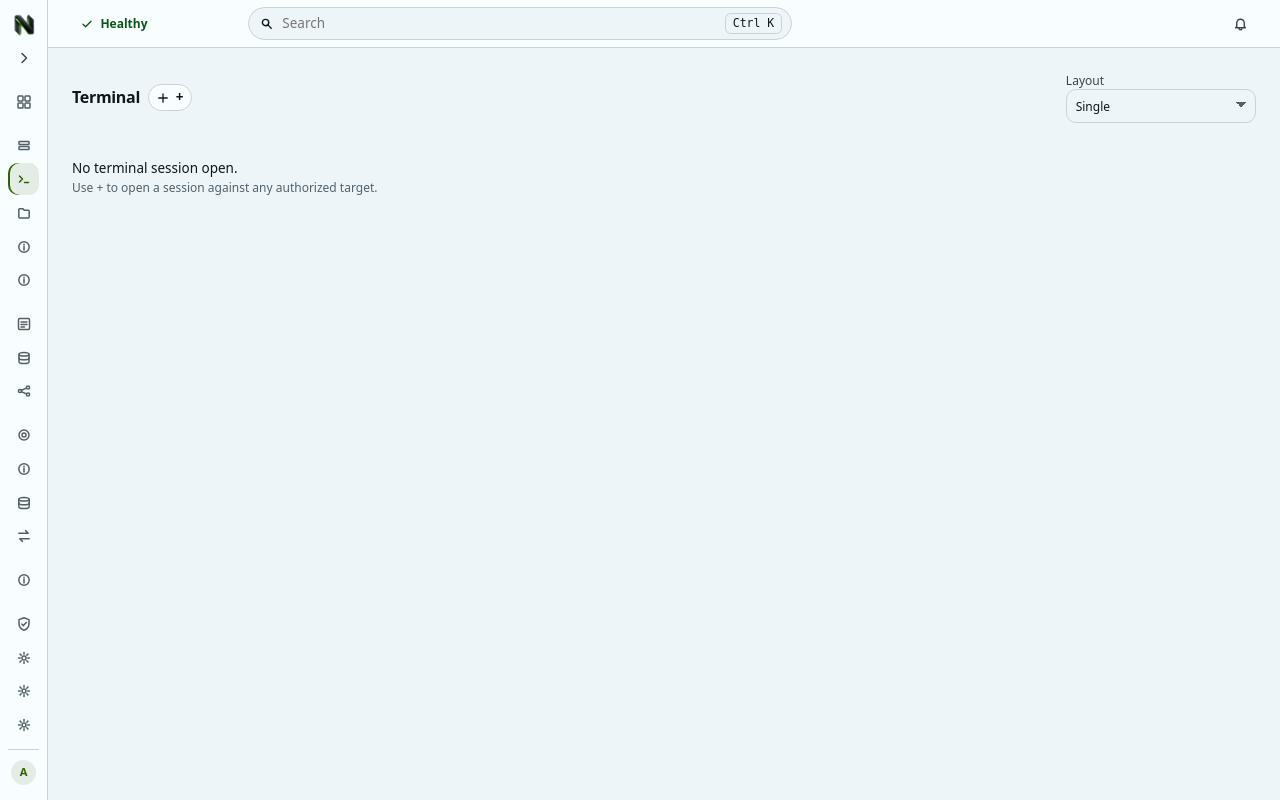
Test: Terminal workspace › keeps sessions alive when navigating away and restores disconnected after reload metadata
This screenshot has width=1280, height=800.
Expected: the heading "Terminal" is shown, x1=72 y1=88 x2=140 y2=107
Click the button named "new terminal".
click(170, 98)  # box x1=148 y1=84 x2=192 y2=111
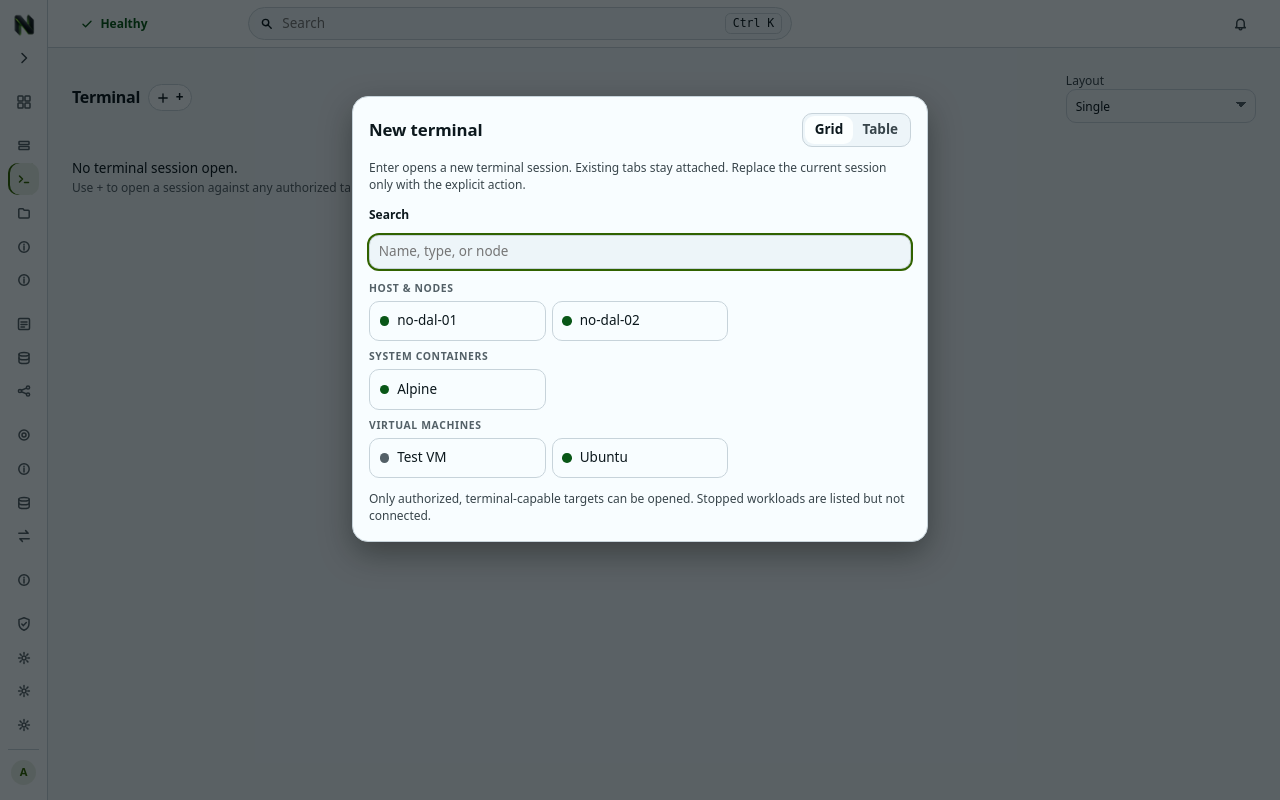
Expected: the dialog "New terminal" is shown, x1=352 y1=96 x2=928 y2=542
Expected: the button "Alpine" is shown
Click the button "Alpine".
click(457, 390)  # box x1=370 y1=370 x2=545 y2=409
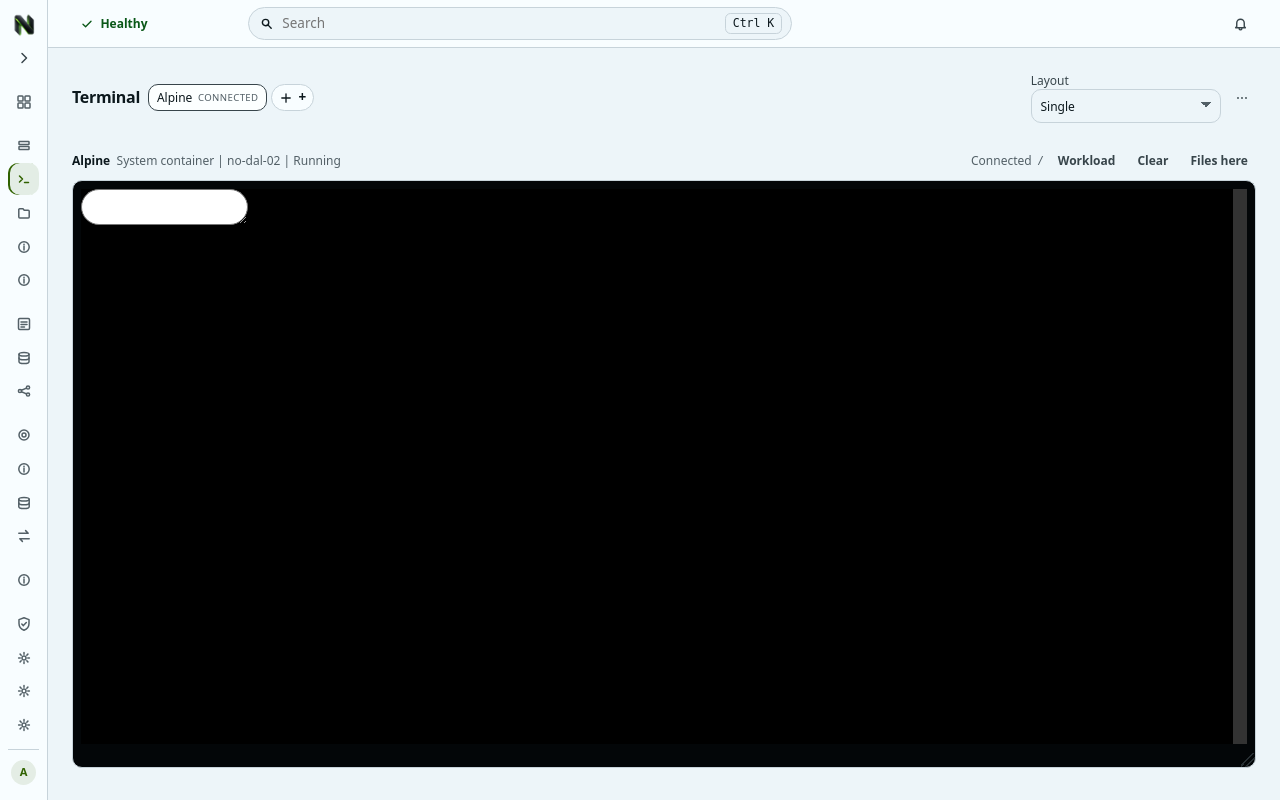
Expected: the text with class "is-active" next to "Workload" reads "Connected", x1=971 y1=152 x2=1032 y2=169
Click the link named "workloads".
click(24, 146)  # box x1=16 y1=138 x2=32 y2=154
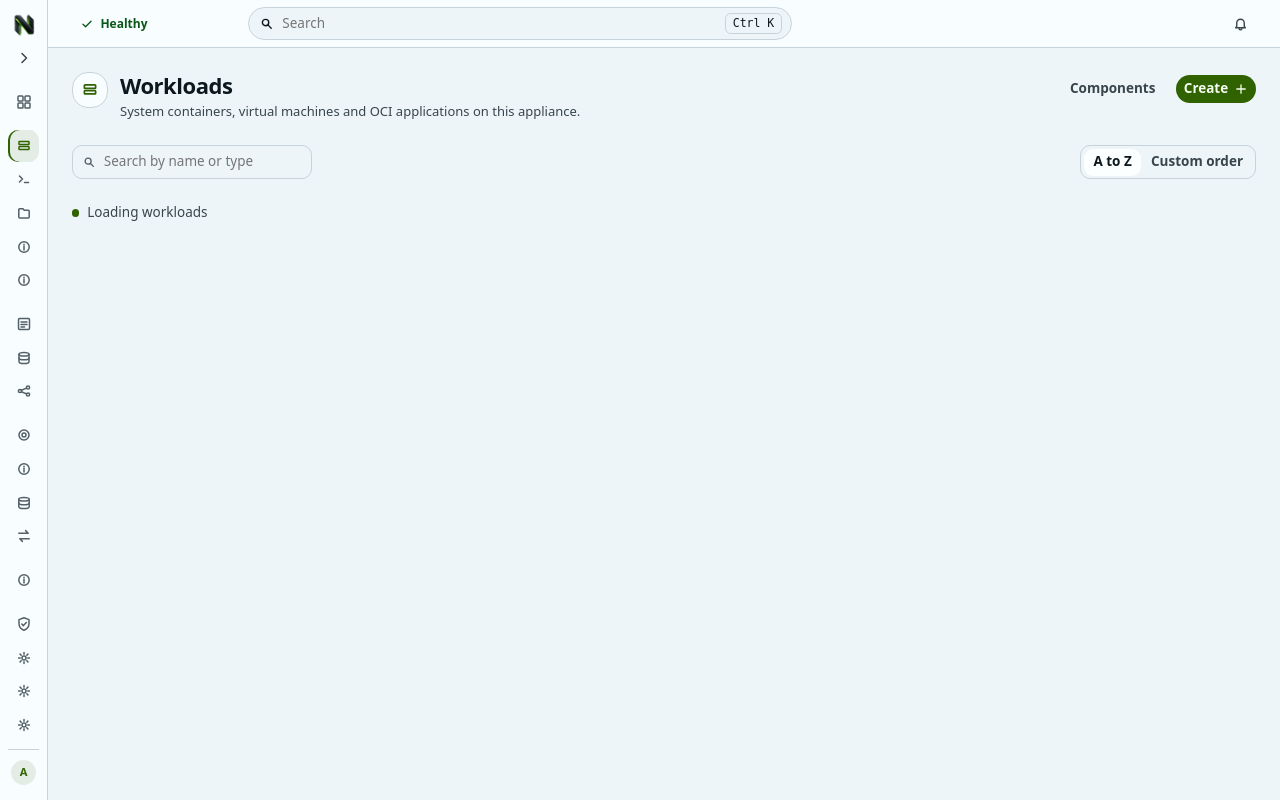
Expected: the heading "Workloads" is shown, x1=120 y1=70 x2=233 y2=100
Click the link named "storage".
click(24, 358)  # box x1=16 y1=350 x2=32 y2=366
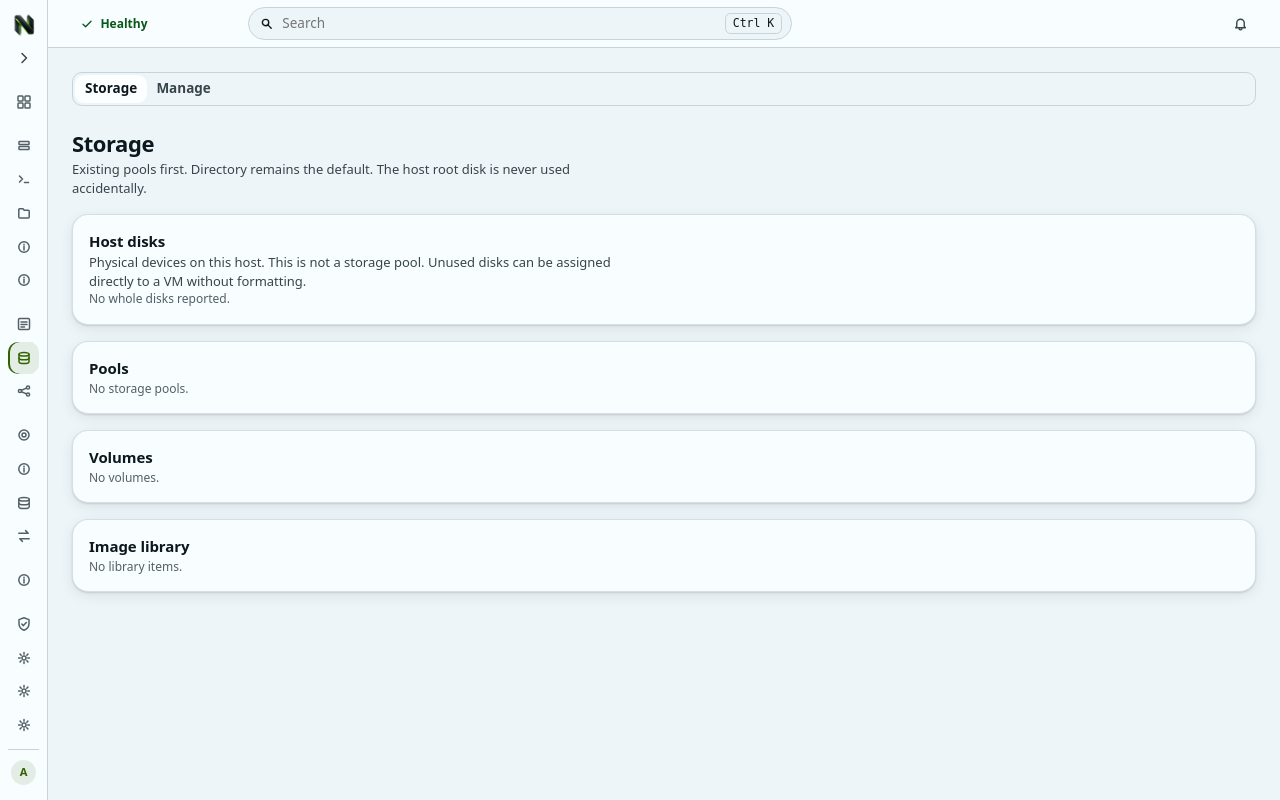
Expected: the heading "Storage" is shown, x1=72 y1=128 x2=154 y2=158
Click the link named "workloads".
click(24, 146)  # box x1=16 y1=138 x2=32 y2=154
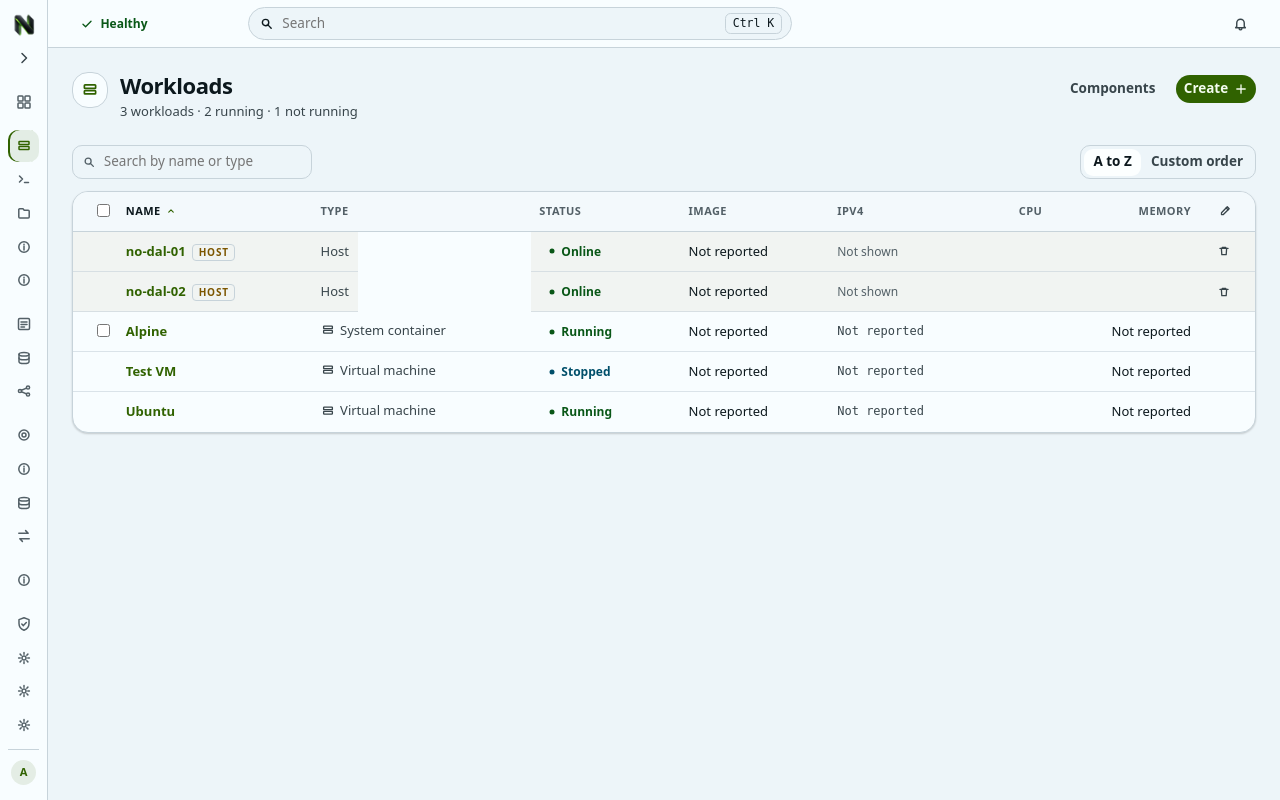
Expected: the heading "Workloads" is shown, x1=120 y1=70 x2=233 y2=100
Click the link named "terminal".
click(24, 179)  # box x1=16 y1=171 x2=32 y2=187
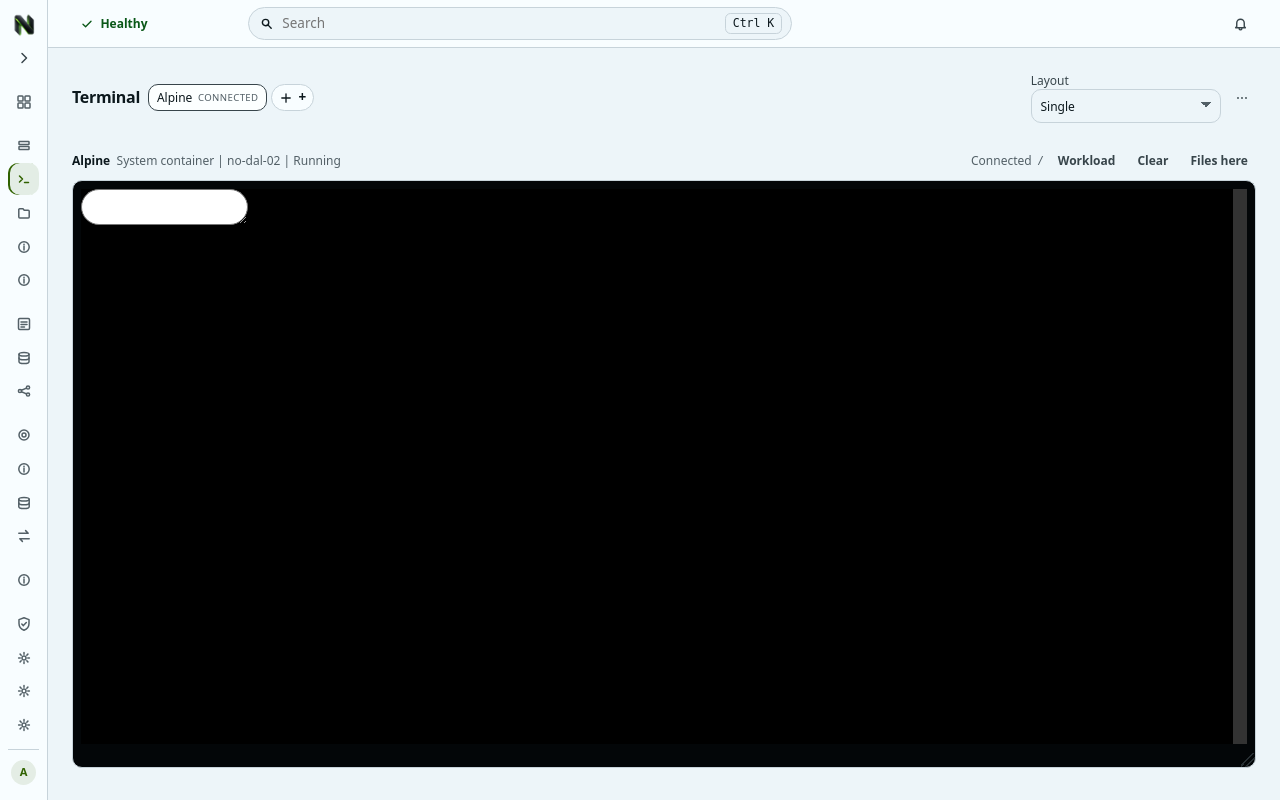
Expected: the tab "Alpine Connected" is shown, x1=148 y1=84 x2=268 y2=111
Expected: the text with class "is-active" next to "Workload" reads "Connected", x1=971 y1=152 x2=1032 y2=169
